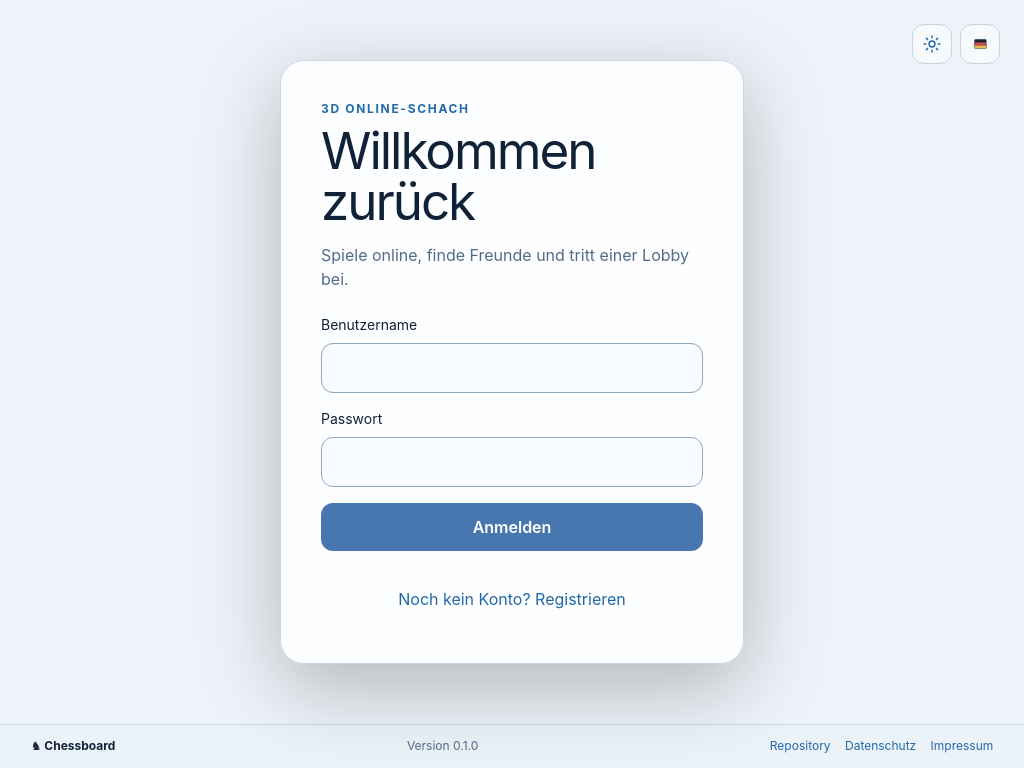
Test: App › allows a guest to register and opens the lobby dashboard
This screenshot has width=1024, height=768.
expect the heading "Willkommen zurück" is shown: met, box [321, 119, 596, 232]
Click the button "Noch kein Konto? Registrieren" at (512, 599), box [321, 575, 703, 623]
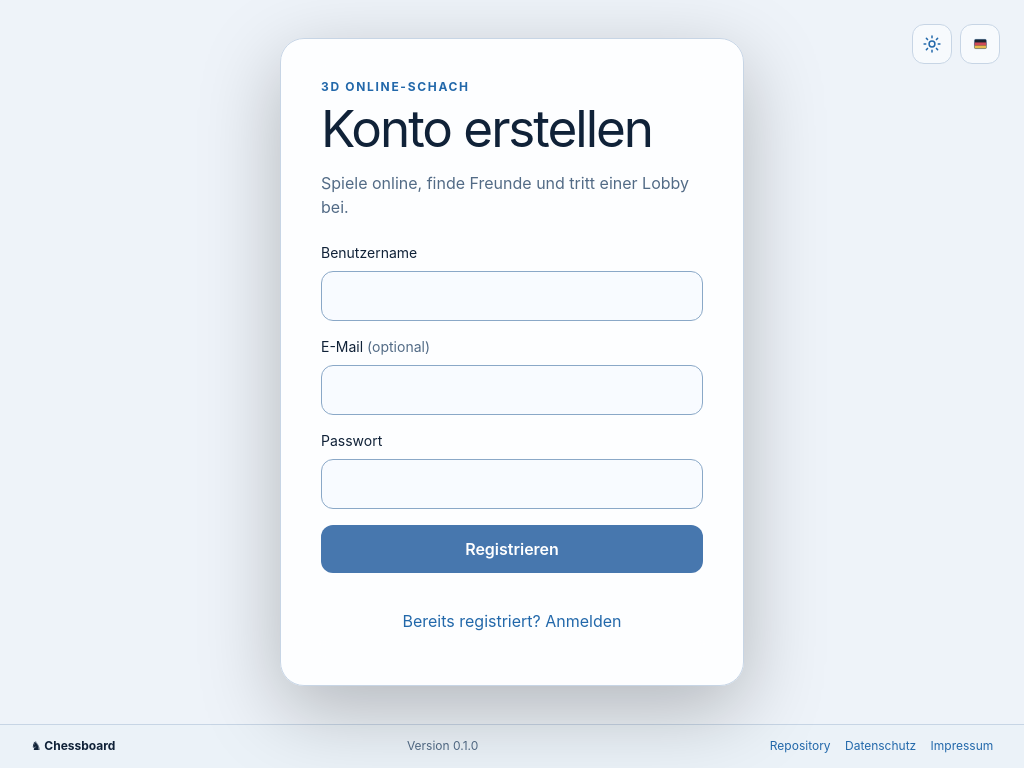
expect the heading "Konto erstellen" is shown: met, box [321, 103, 703, 154]
Type "Niklas" into the field labelled "Benutzername" at (512, 296), box [321, 270, 703, 320]
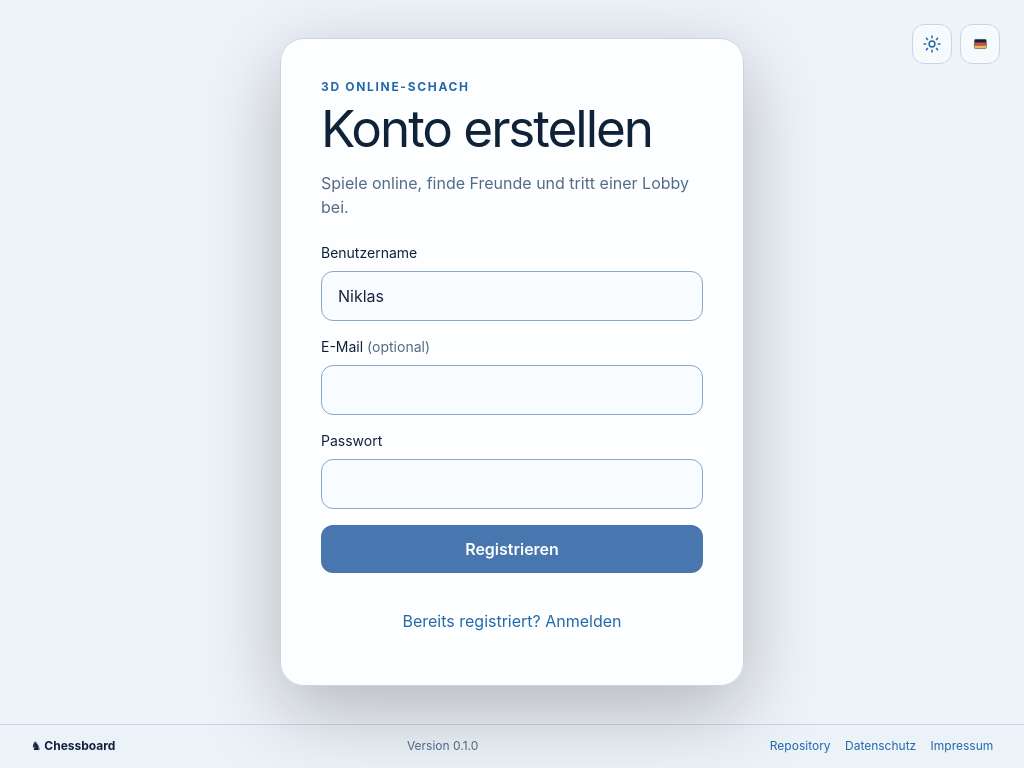
Type "niklas@example.com" into the field labelled "E-Mail (optional)" at (512, 390), box [321, 364, 703, 414]
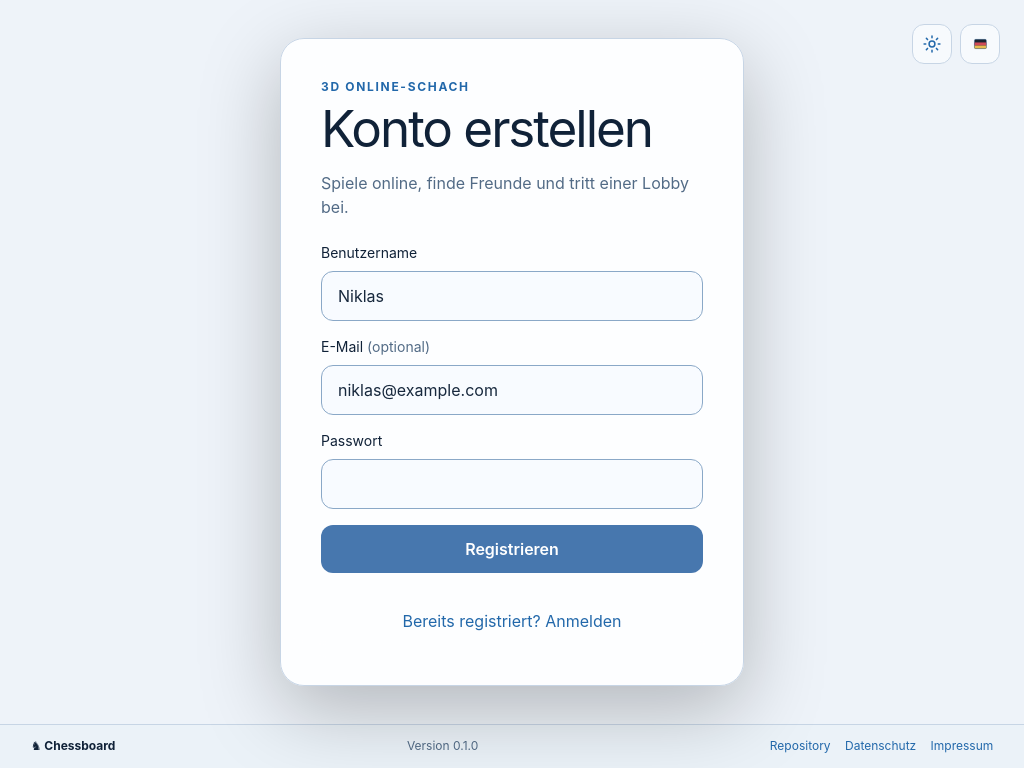
Type "secure-pass" into the password field labelled "Passwort" at (512, 484), box [321, 458, 703, 508]
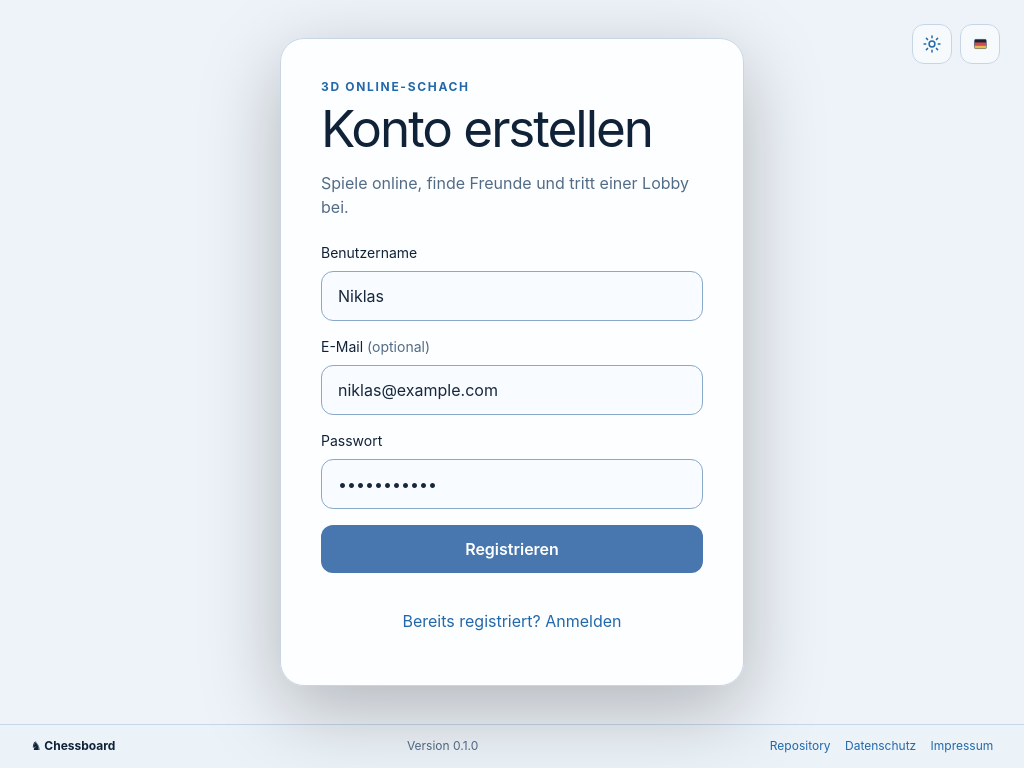
Click the button "Registrieren" at (512, 548), box [321, 524, 703, 572]
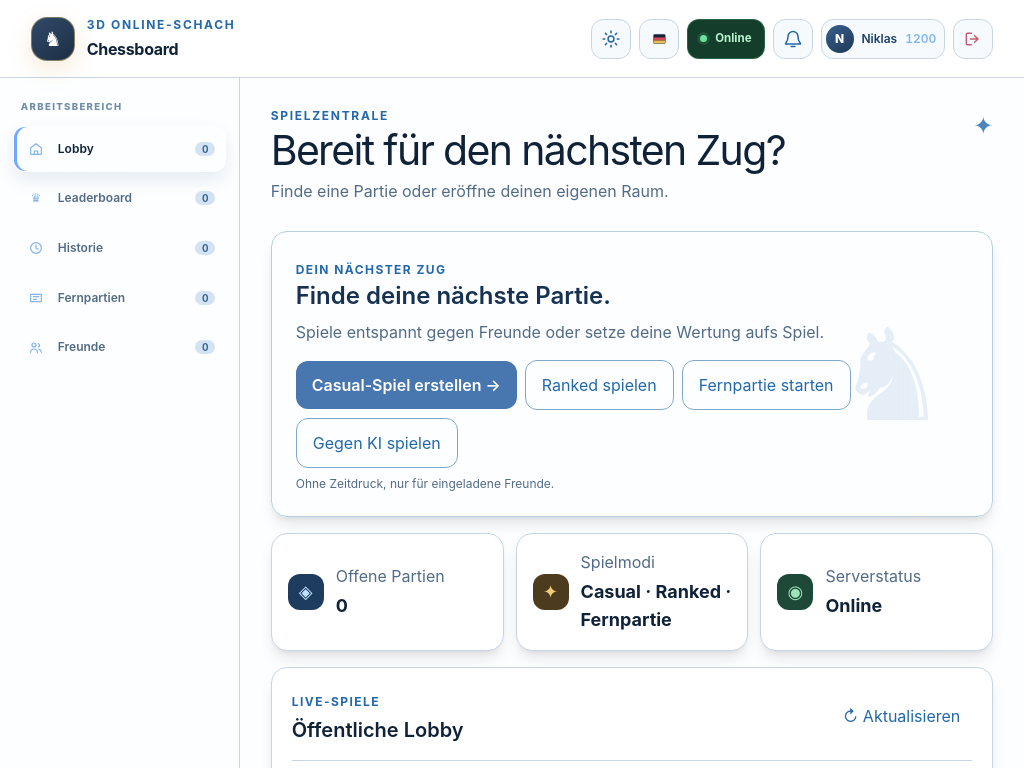
expect the heading "Bereit für den nächsten Zug?" is shown: met, box [271, 130, 785, 171]
